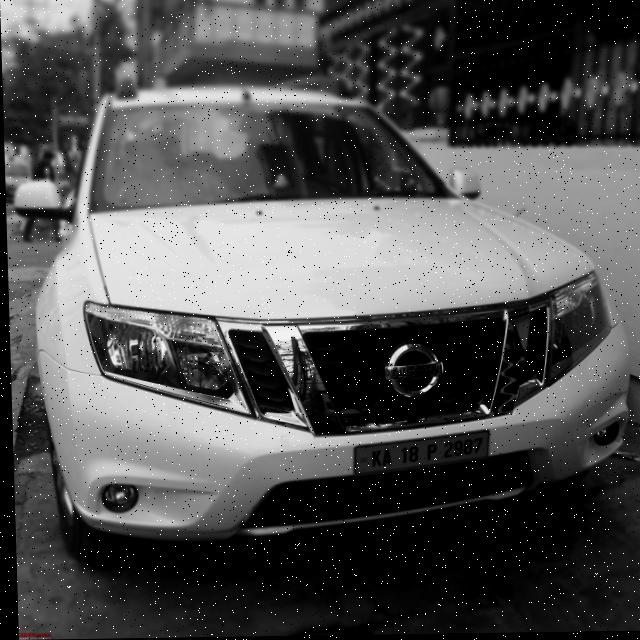plate: (349, 430, 489, 476)
